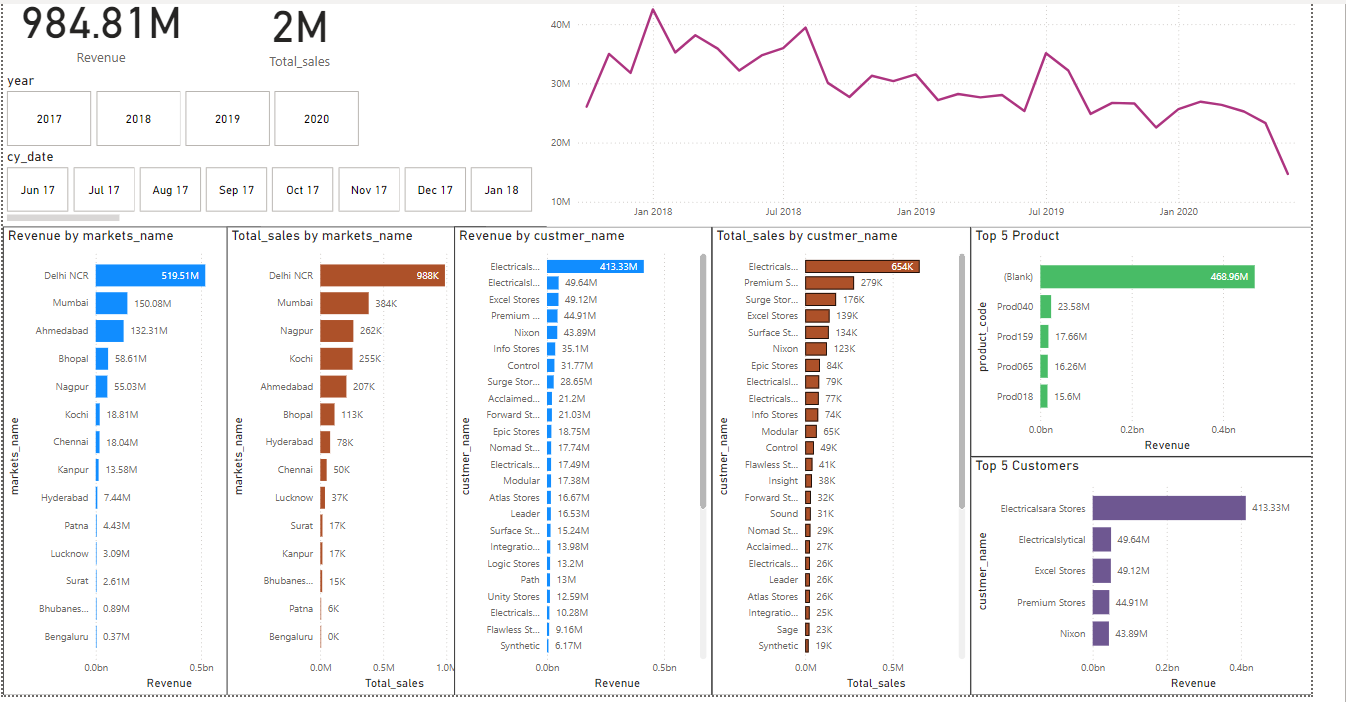

The dashboard page shown, as its layout file describes it:
{"tool":"powerbi","page":{"name":"Page 1","canvas":[1600,900],"ordinal":0},"visuals":[{"type":"card","fields":{"Values":["BaseMeasures.Revenue"]},"box":[0,0,239.7,184.6],"z":0},{"type":"card","fields":{"Values":["BaseMeasures.Total_sales"]},"box":[240,0,246.1,172.7],"z":1000},{"type":"card","fields":{"Values":["BaseMeasures.Revenue"]},"box":[0,0,240,162],"z":2000},{"type":"clusteredBarChart","fields":{"Y":["BaseMeasures.Revenue"],"Category":["sales markets.markets_name"]},"box":[0,327.1,314.9,573.2],"z":3000},{"type":"clusteredBarChart","fields":{"Category":["sales customers.custmer_name","sales markets.markets_name"],"Y":["BaseMeasures.Total_sales"]},"box":[273.6,327.1,316.4,573.2],"z":4000},{"type":"advancedSlicerVisual","fields":{"Values":["sales date.year"]},"box":[0,137.6,443.3,96.3],"z":5000},{"type":"advancedSlicerVisual","fields":{"Values":["sales date.cy_date"]},"box":[0,230.8,652.7,96.3],"z":6000},{"type":"clusteredBarChart","fields":{"Category":["sales customers.custmer_name"],"Y":["BaseMeasures.Total_sales"]},"box":[866.7,327.1,316.4,573.2],"z":7000},{"type":"clusteredBarChart","fields":{"Y":["BaseMeasures.Revenue"],"Category":["sales customers.custmer_name"]},"box":[551.8,327.1,314.9,573.2],"z":8000},{"type":"clusteredBarChart","title":"Top 5 Customers","fields":{"Y":["BaseMeasures.Revenue"],"Category":["sales customers.custmer_name"]},"box":[1183.1,608.4,417.3,292],"z":9000},{"type":"clusteredBarChart","title":"Top 5 Product","fields":{"Y":["BaseMeasures.Revenue"],"Category":["sales products.product_code"]},"box":[1183.1,327.1,417.3,281.3],"z":9001},{"type":"lineChart","title":"Revenue Trends","fields":{"Y":["BaseMeasures.Revenue"],"Category":["sales date.cy_date.Variation.Date Hierarchy.Year","sales date.cy_date.Variation.Date Hierarchy.Quarter","sales date.cy_date.Variation.Date Hierarchy.Month","sales date.cy_date.Variation.Date Hierarchy.Day"]},"box":[664.9,10.7,935.5,316.4],"z":9002}]}

Visuals, with their boxes in screenshot pixels (x1, y1, x2, y2):
card - BaseMeasures.Revenue: crop(112, 0, 303, 115)
card - BaseMeasures.Total_sales: crop(303, 0, 499, 106)
card - BaseMeasures.Revenue: crop(112, 0, 303, 97)
clusteredBarChart - BaseMeasures.Revenue x sales markets.markets_name: crop(112, 229, 363, 685)
clusteredBarChart - sales customers.custmer_name x sales markets.markets_name: crop(330, 229, 582, 685)
advancedSlicerVisual - sales date.year: crop(112, 78, 465, 155)
advancedSlicerVisual - sales date.cy_date: crop(112, 152, 632, 229)
clusteredBarChart - sales customers.custmer_name x BaseMeasures.Total_sales: crop(802, 229, 1054, 685)
clusteredBarChart - BaseMeasures.Revenue x sales customers.custmer_name: crop(552, 229, 802, 685)
"Top 5 Customers" clusteredBarChart: crop(1054, 453, 1345, 686)
"Top 5 Product" clusteredBarChart: crop(1054, 229, 1345, 453)
"Revenue Trends" lineChart: crop(642, 0, 1345, 229)
